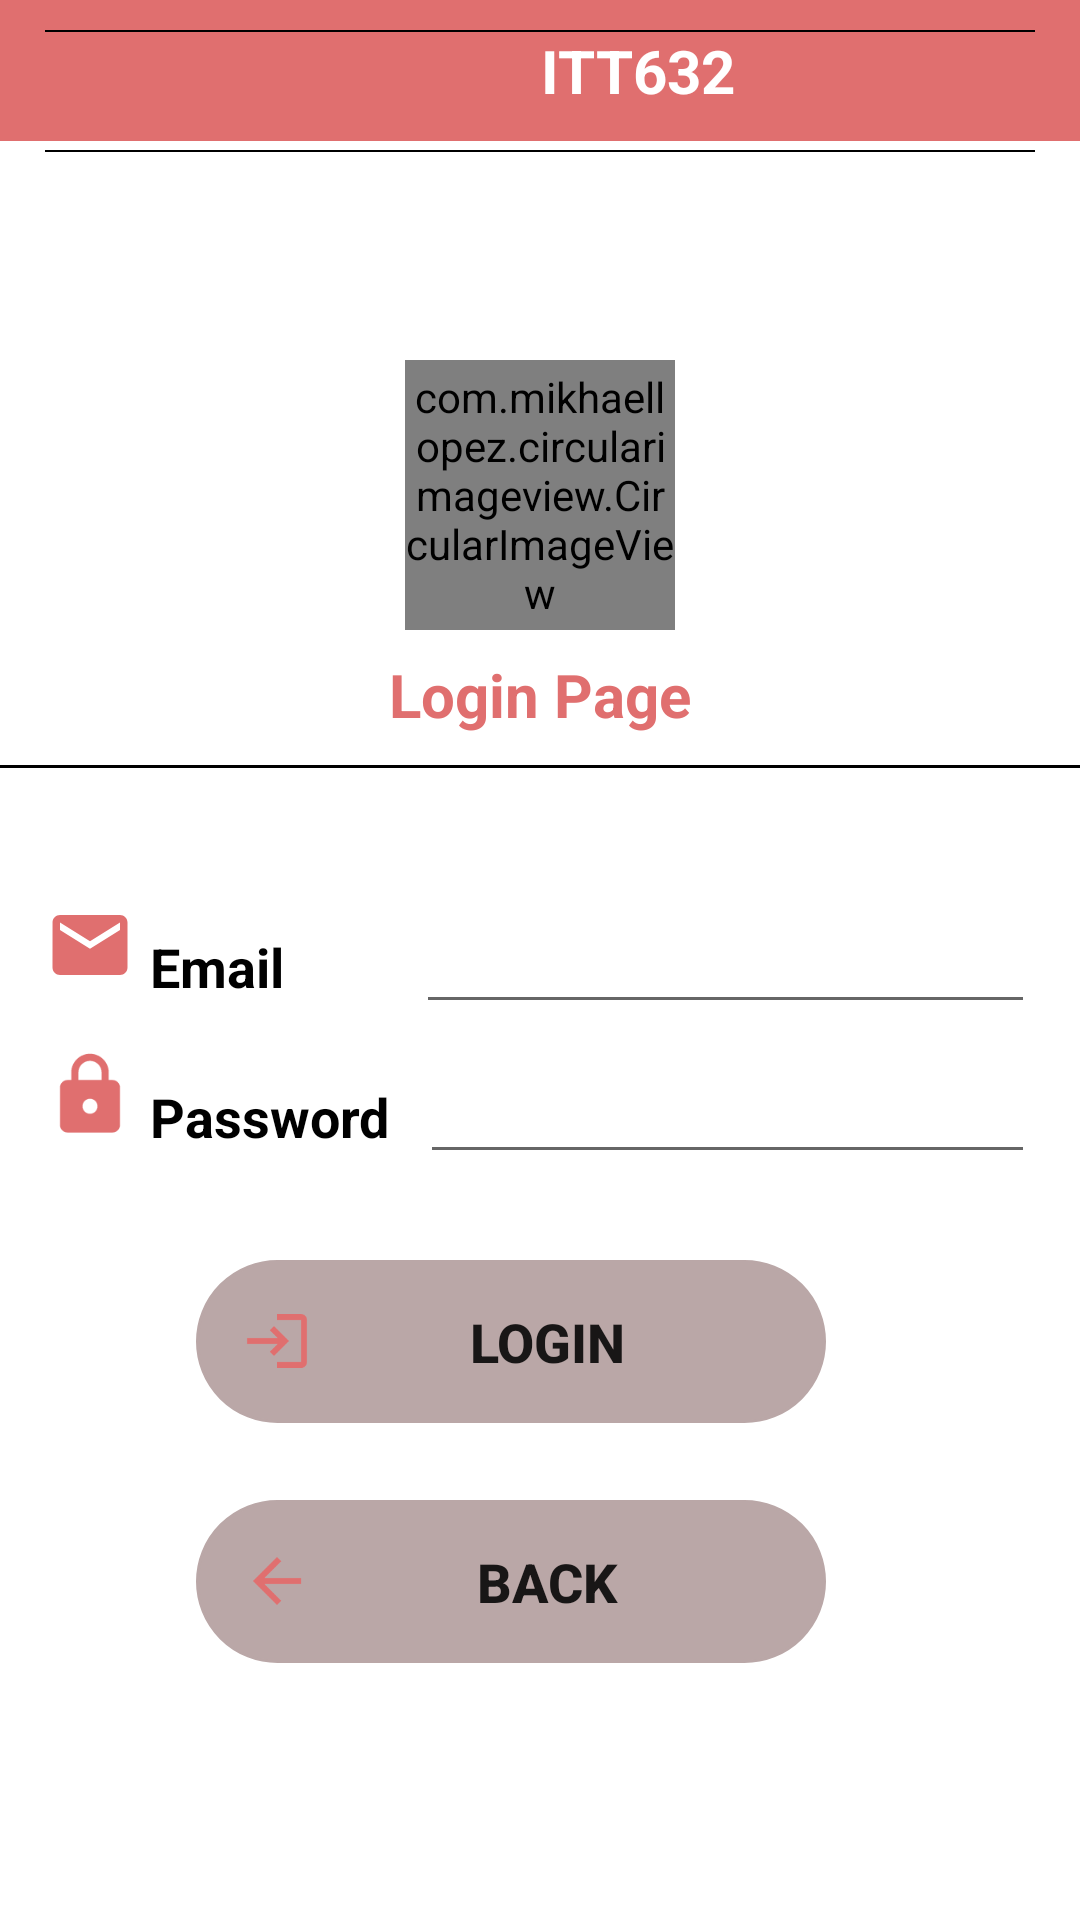

Icons on this 1080 x 1920 Android screen, each with its box as BBox(x1, y1, x2, y2):
lock: BBox(60, 1053, 120, 1133)
